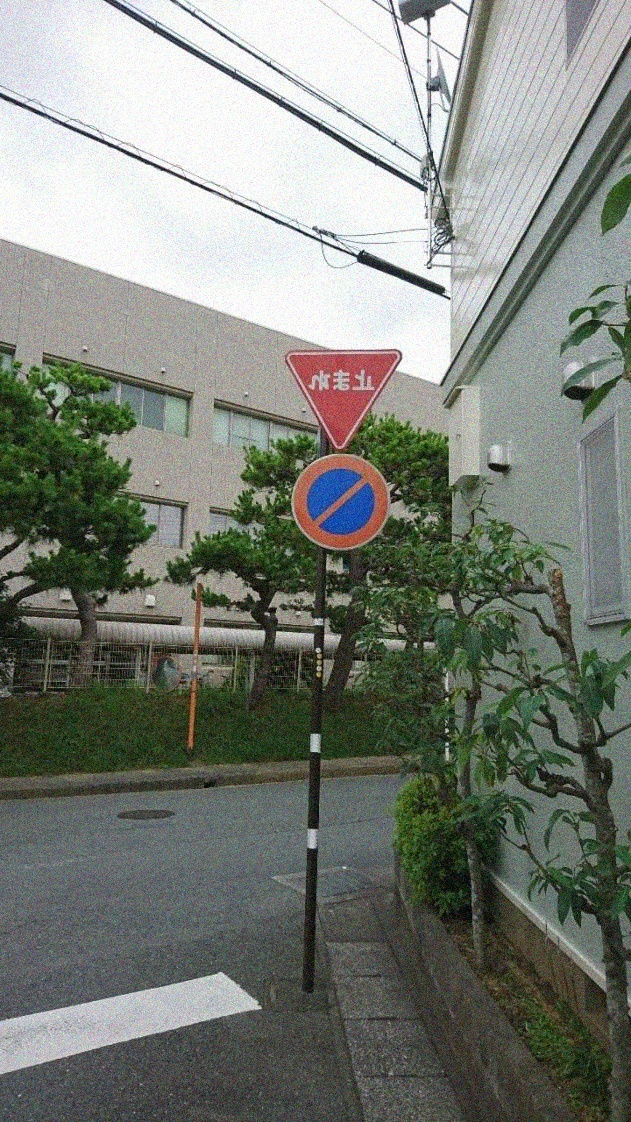Prohibition_sign: (292, 442, 403, 566)
Regulatory_sign_triangle: (280, 334, 402, 457)
